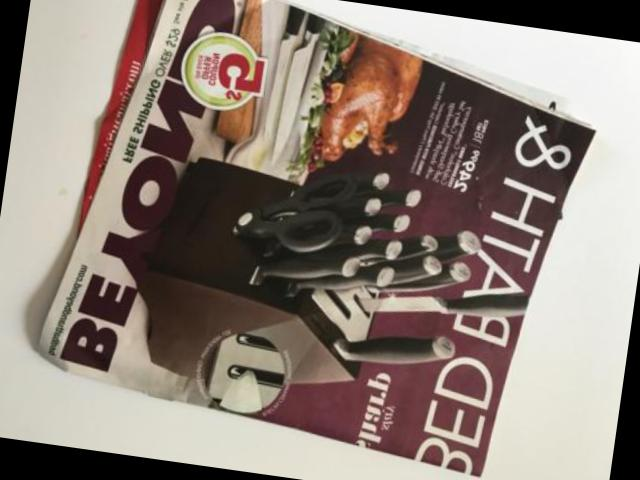cardboard paper: (42, 0, 596, 474)
